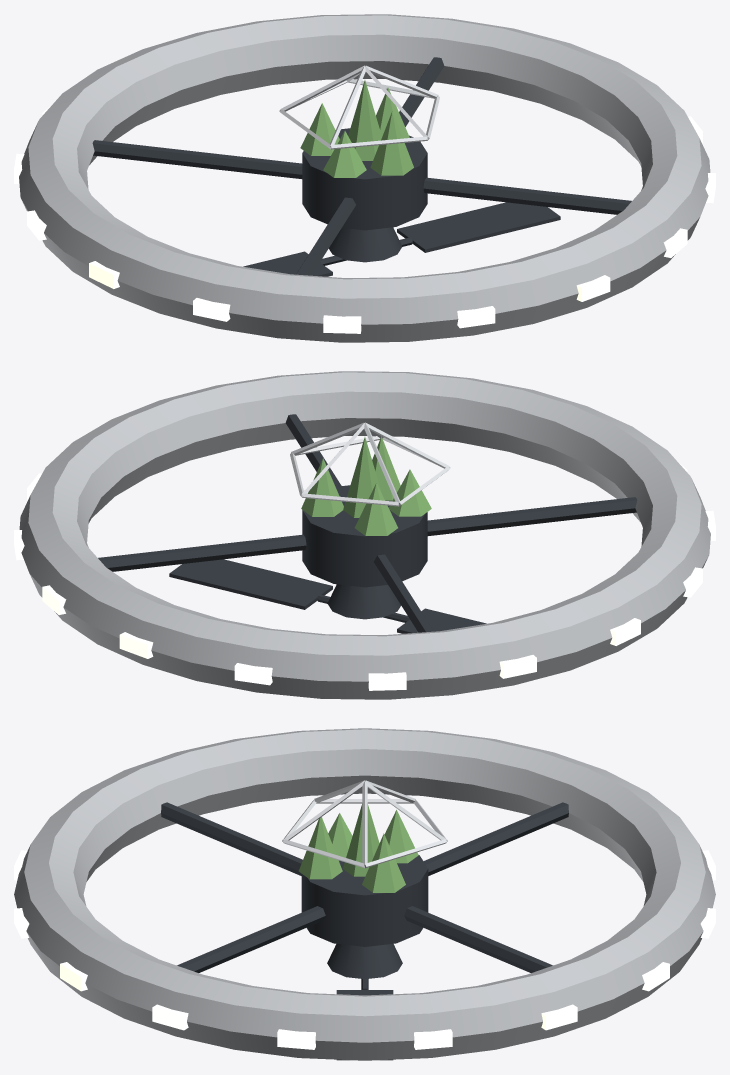
File: orbital-nursery.glb
3 views of the same model, one above another, from view 1: azimuth 30°, elevation 25°; view 2: azimuth 150°, elevation 25°; view 3: azimuth 270°, elevation 25° (orthographic).
Visible parts, largest first — view 1: Ring, Hub, Trees, Solar, Windows, Dome; view 2: Ring, Hub, Trees, Solar, Windows, Dome; view 3: Ring, Hub, Trees, Windows, Dome.
Part boxes in pixels (<box>): Ring: <box>19,14,710,342</box>; Hub: <box>92,57,631,275</box>; Trees: <box>300,80,413,177</box>; Solar: <box>243,202,560,276</box>; Windows: <box>14,104,715,333</box>; Dome: <box>279,65,439,149</box>; Ring: <box>19,371,710,699</box>; Hub: <box>98,414,637,632</box>; Trees: <box>301,436,431,535</box>; Solar: <box>169,559,486,633</box>; Windows: <box>14,461,715,690</box>; Dome: <box>290,422,450,506</box>; Ring: <box>14,728,715,1060</box>; Hub: <box>161,802,568,979</box>; Trees: <box>298,804,418,892</box>; Windows: <box>14,850,715,1049</box>; Dome: <box>282,780,447,868</box>.
Size of the model in its own units: 2.22 by 0.6672 by 2.22.
